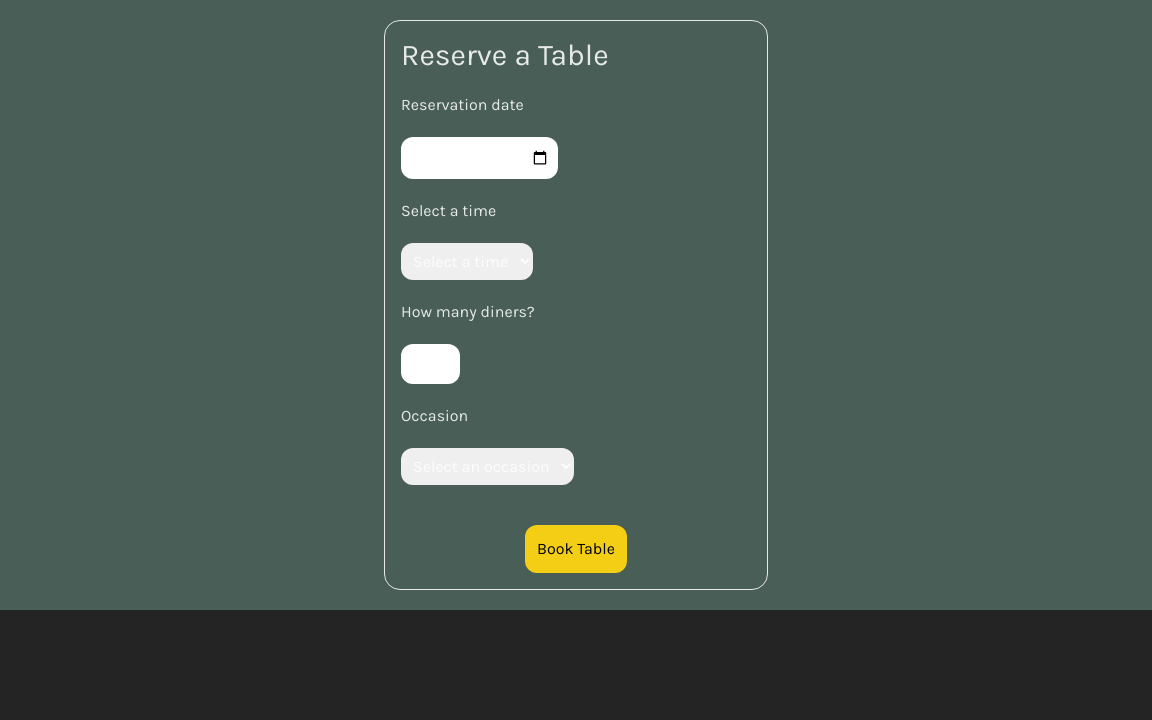
it: BookingForm › display validation errors and prevent submission if form fields are empty
Note: Submit the form without filling in any fields
Click the button "Book Table".
click(576, 549)  # box [525, 525, 627, 573]
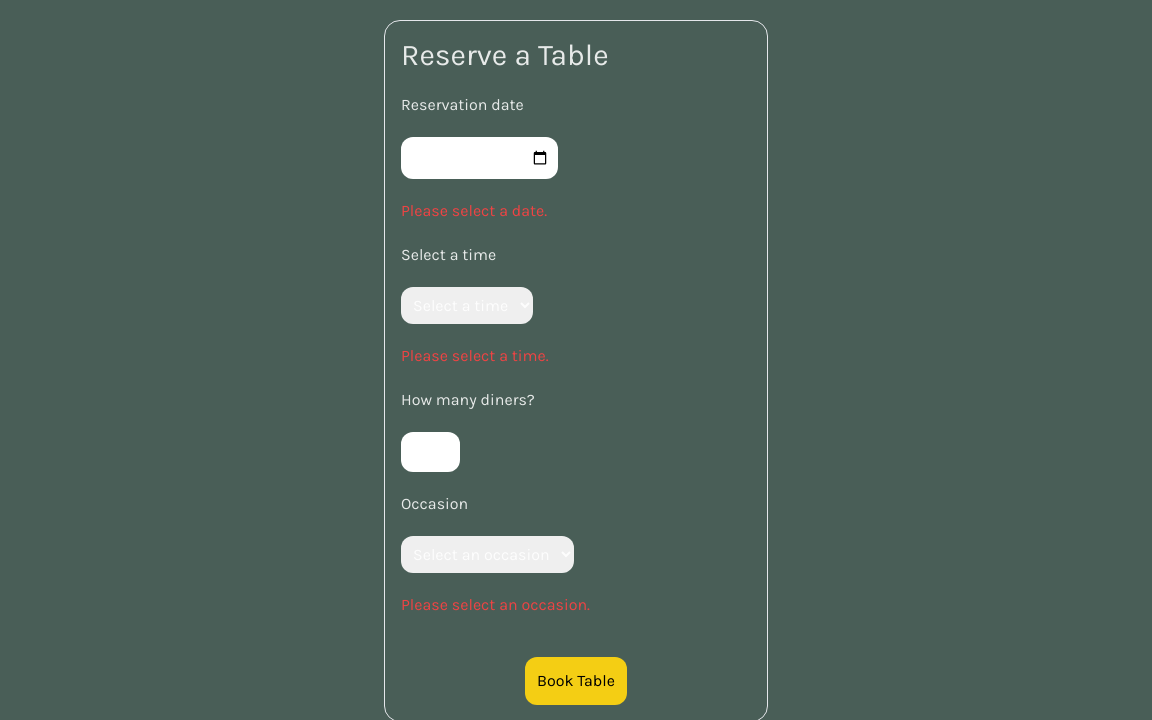
Now the text "Please select a date." is shown, box [401, 199, 547, 223]
Now the text "Please select a time." is shown, box [401, 344, 549, 368]
Now the text "Please select an occasion." is shown, box [401, 593, 590, 617]
